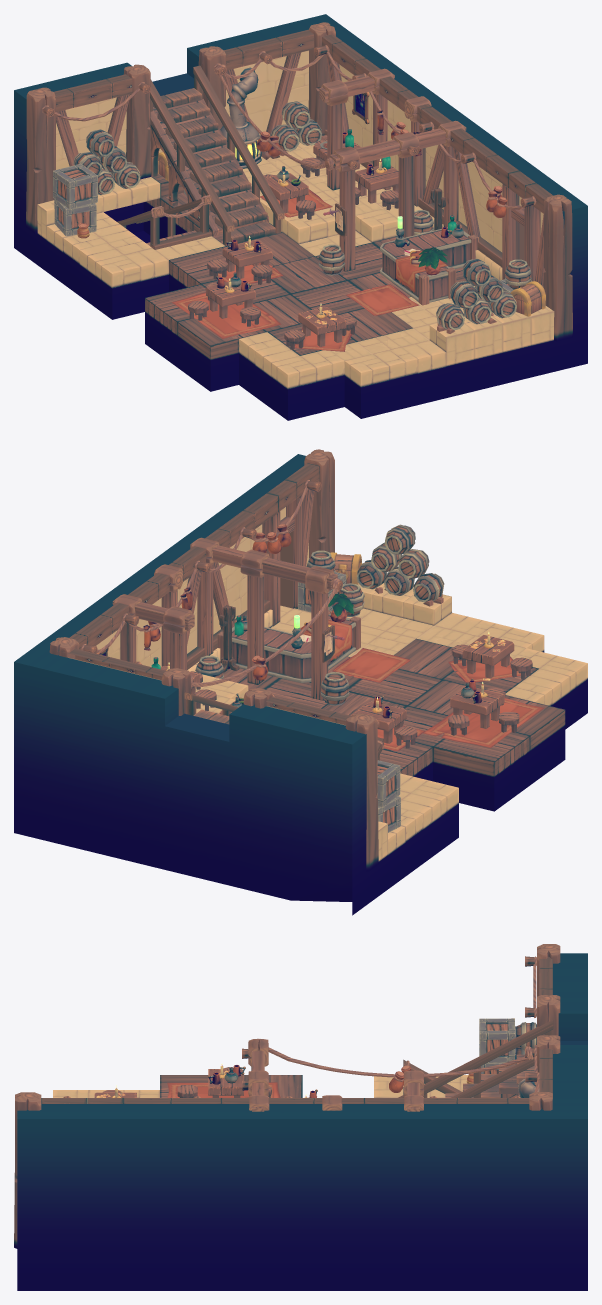
The picture shows the model from 3 angles, top to bottom: view 1: azimuth 30°, elevation 25°; view 2: azimuth 150°, elevation 25°; view 3: azimuth 270°, elevation 25°; orthographic projection. The views are drawn at different scales.
Visible parts, largest first — view 1: TheInn_bakeInn_0; view 2: TheInn_bakeInn_0; view 3: TheInn_bakeInn_0.
Part boxes in pixels (<box>): TheInn_bakeInn_0: <box>14,14,587,420</box>; TheInn_bakeInn_0: <box>14,449,587,915</box>; TheInn_bakeInn_0: <box>14,944,587,1290</box>.
Size of the model in its own units: 111 by 56.41 by 161.
Materials: 1 (1 with a texture image).
